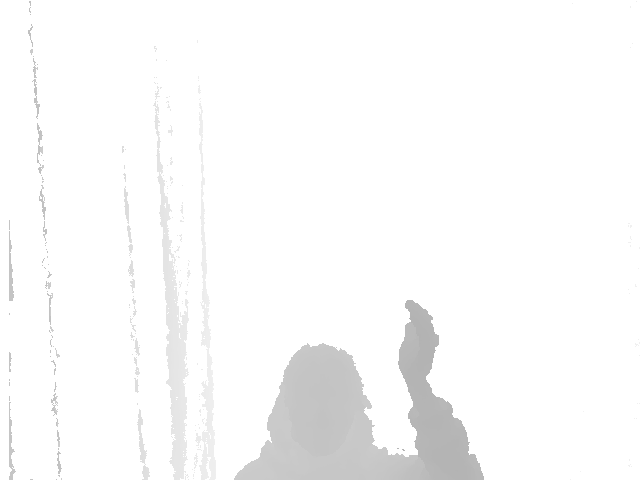hand: (398, 299, 438, 396)
head: (266, 343, 376, 448)
person: (234, 299, 486, 480)
